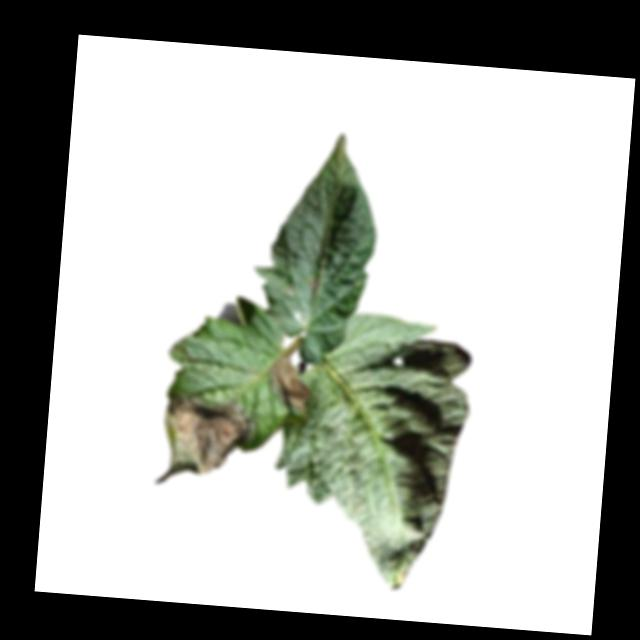Late_blight: (154, 393, 258, 492), (261, 353, 312, 418), (305, 277, 323, 294)
healthy: (263, 306, 476, 596)
